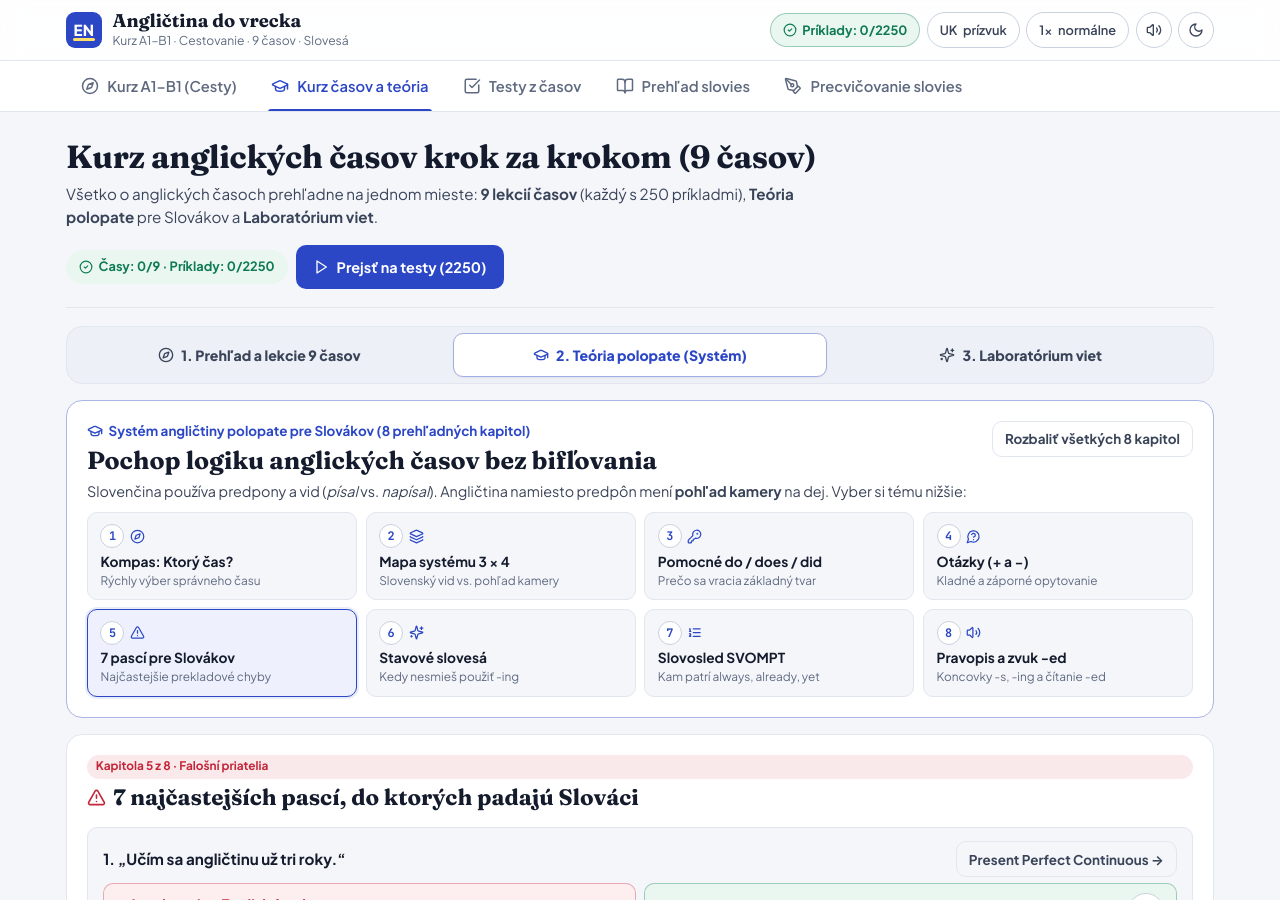
Scenario: App UI Integration › navigates 9-step Course, Polopate Theory Academy, Sentence Lab, and 2250-example Test Studio
This screenshot has width=1280, height=900.
Earlier steps of the test are not shown.
Expected: the text "7 najčastejších pascí, do ktorých padajú Slováci" is shown, [113, 783, 639, 811]
Click the tab "3. Laboratórium viet": (1021, 355) [834, 333, 1207, 377]
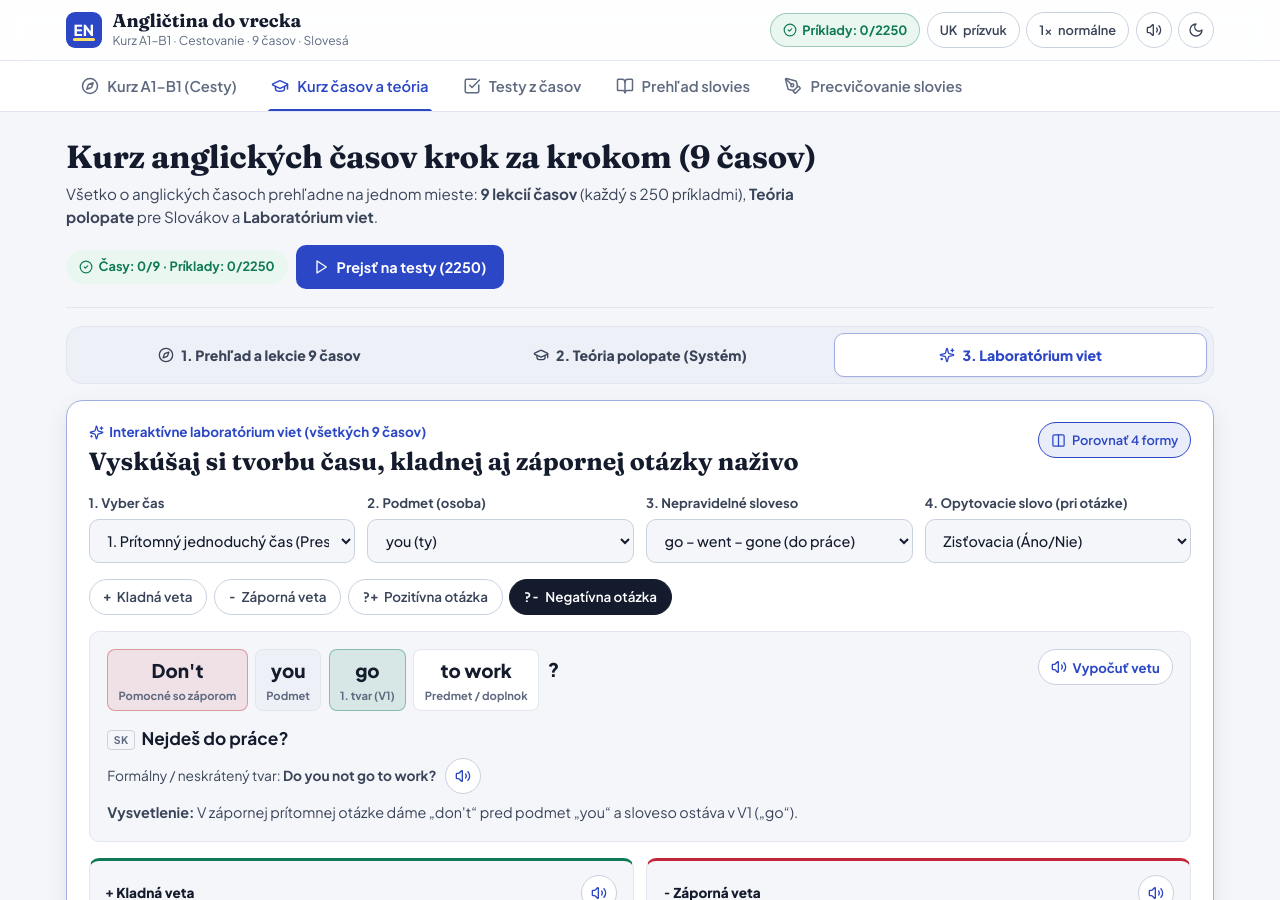
Result: the heading "Vyskúšaj si tvorbu času, kladnej aj zápornej otázky naživo" is shown at [89, 447, 799, 477]
Click the tab "Testy z časov": (522, 86) [448, 61, 596, 111]
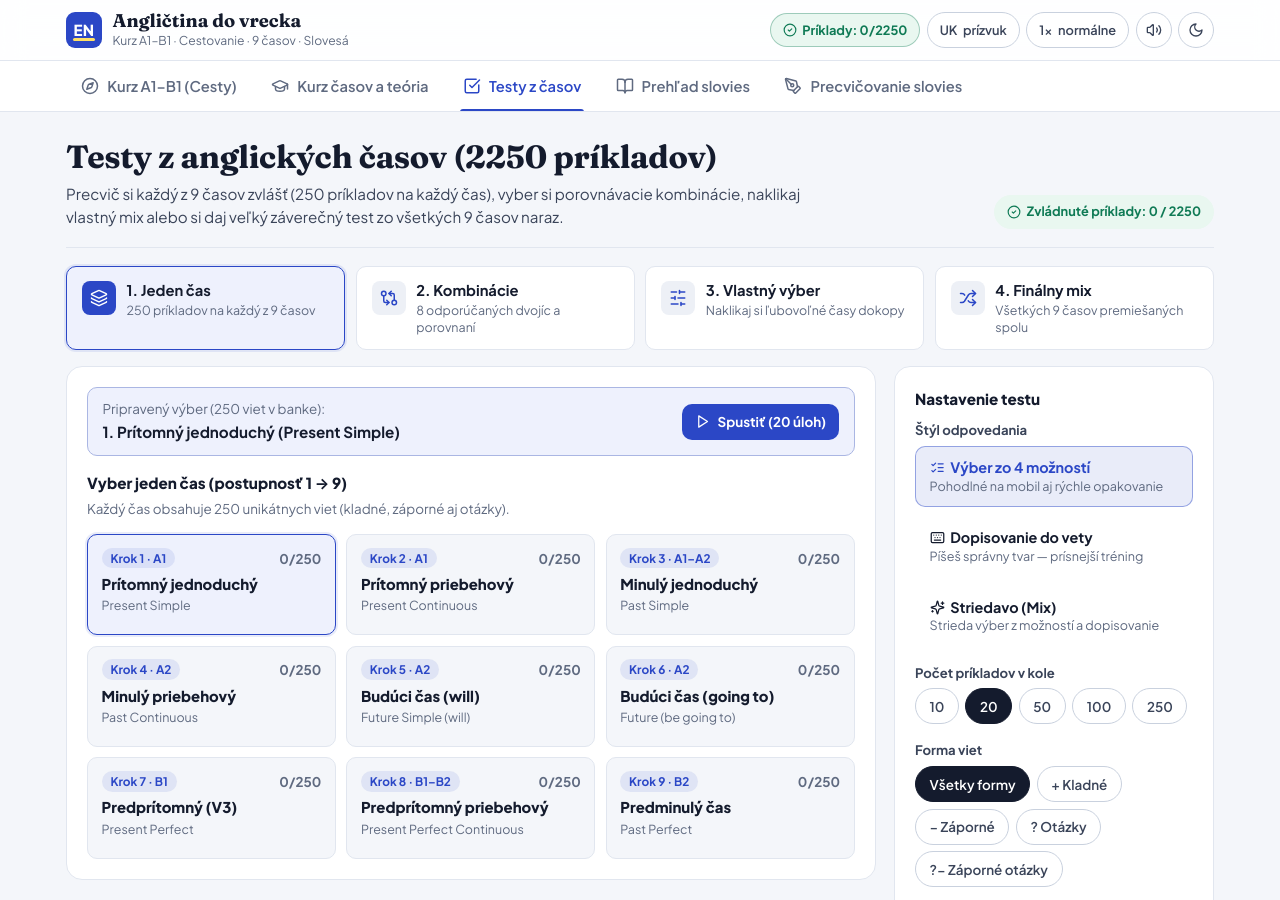
Result: the heading "Testy z anglických časov (2250 príkladov)" is shown at [66, 139, 822, 176]
Result: the button "250" is shown at [1132, 688, 1187, 724]
Click the tab "4. Finálny mix Všetkých 9 časov premiešaných spolu": (1074, 308) [935, 266, 1214, 350]
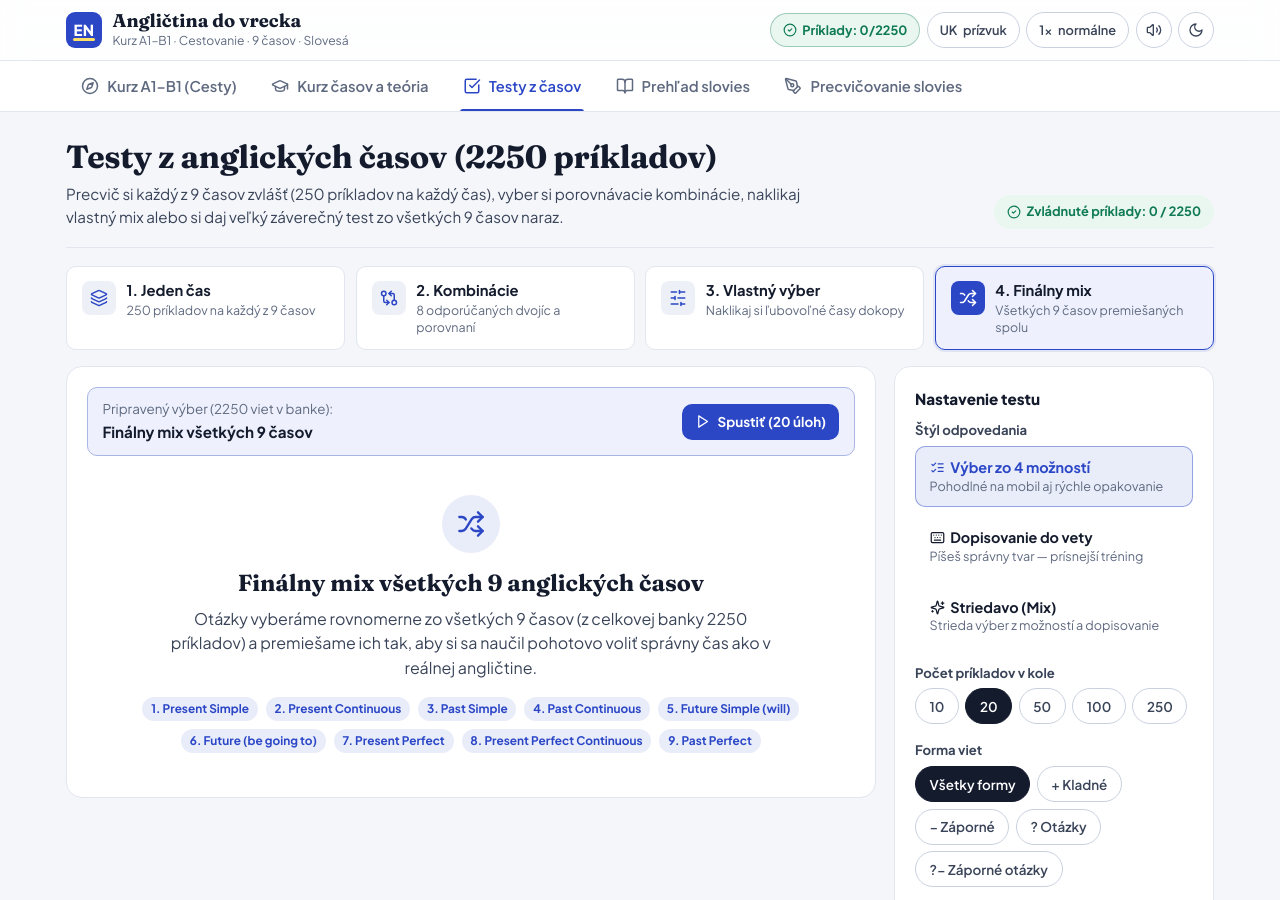
Click the button "10": (937, 706) [915, 688, 959, 724]
(page scrolled)
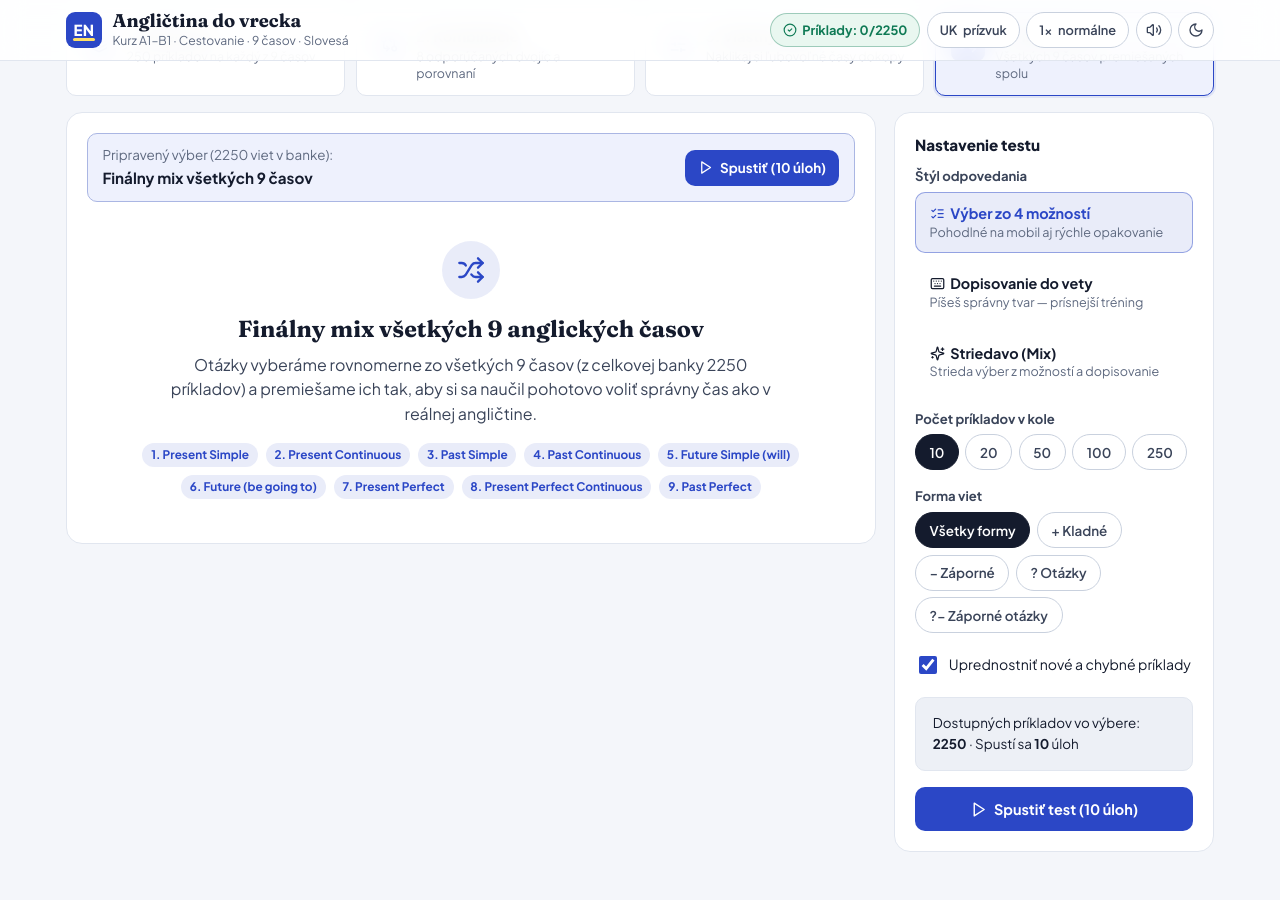
Click the button "Spustiť test (10 úloh)": (1054, 809) [915, 787, 1193, 831]
(page scrolled)
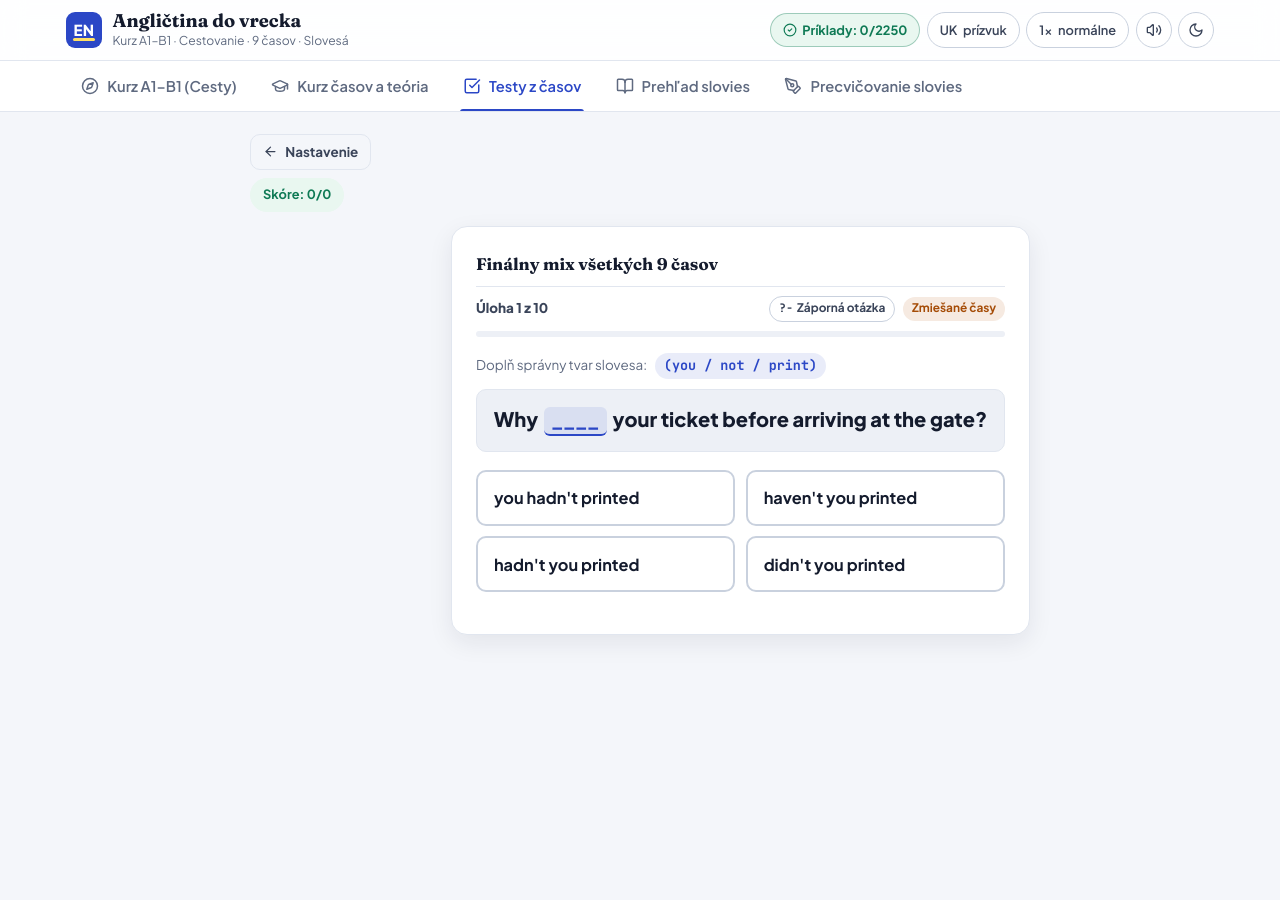
Result: the text "Úloha 1 z 10" is shown at [476, 298, 548, 319]
Result: the text "Zmiešané časy" is shown at [903, 297, 1005, 321]
Result: the number of buttons with class "choice-btn" is 4
Click the button with class "choice-btn" showing "you hadn't printed": (606, 498) [476, 470, 735, 526]
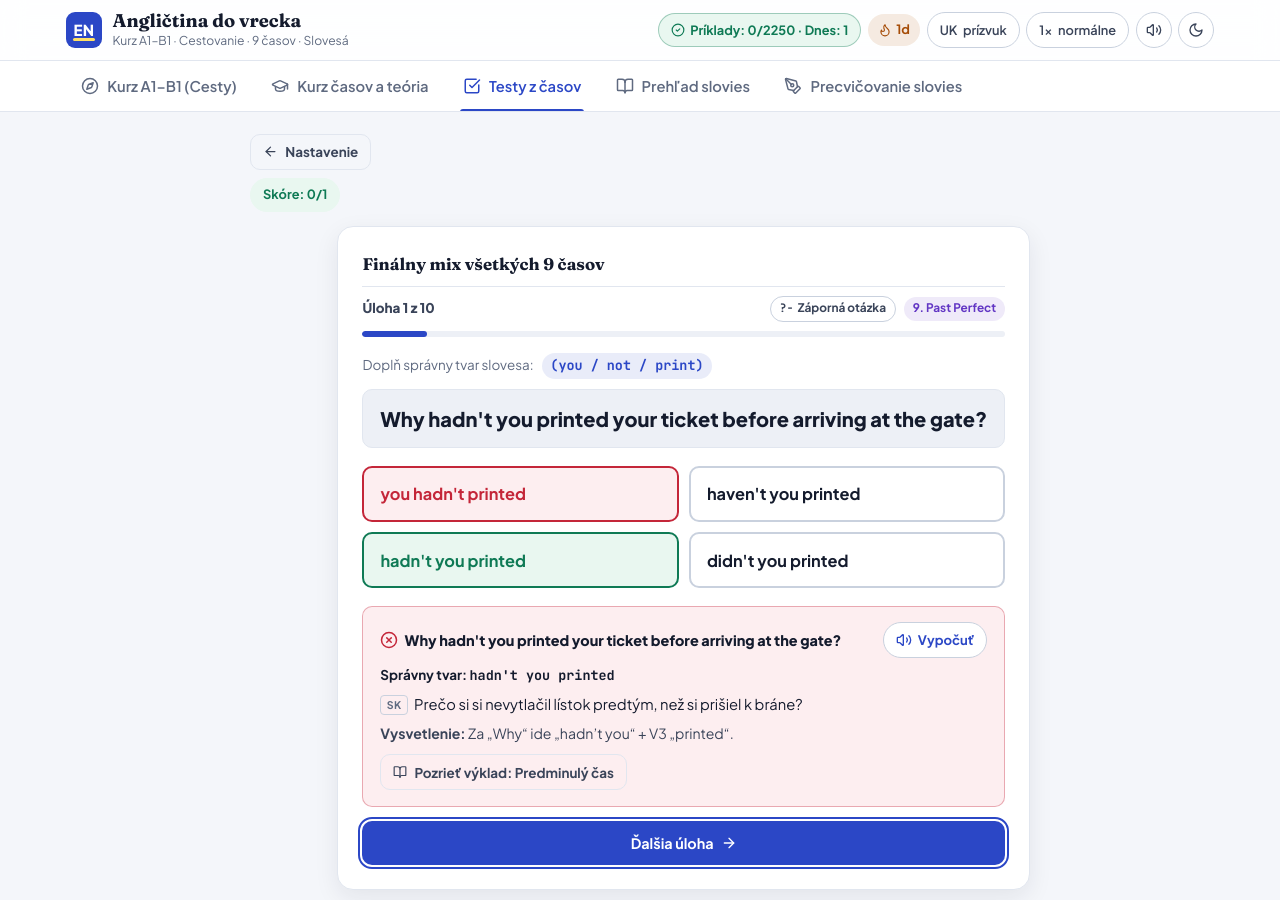
Result: the text "Vysvetlenie:" is shown at [380, 724, 466, 742]
Result: the button "Ďalšia úloha" is shown at [362, 821, 1005, 865]
